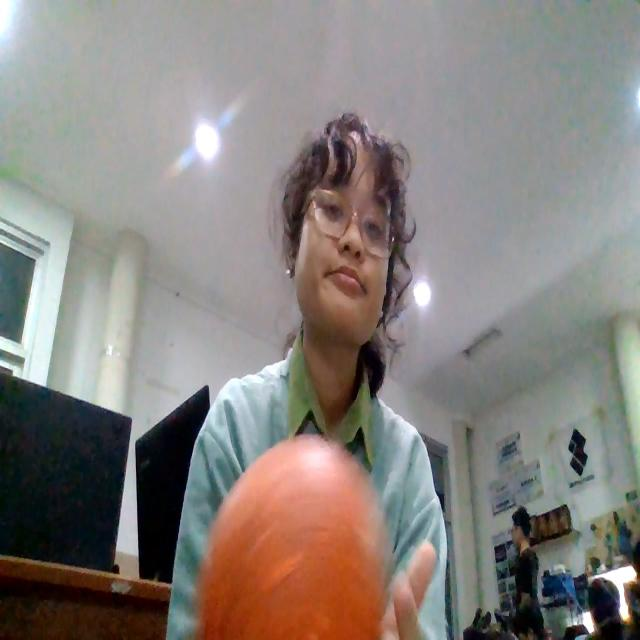ball: (194, 433, 392, 638)
